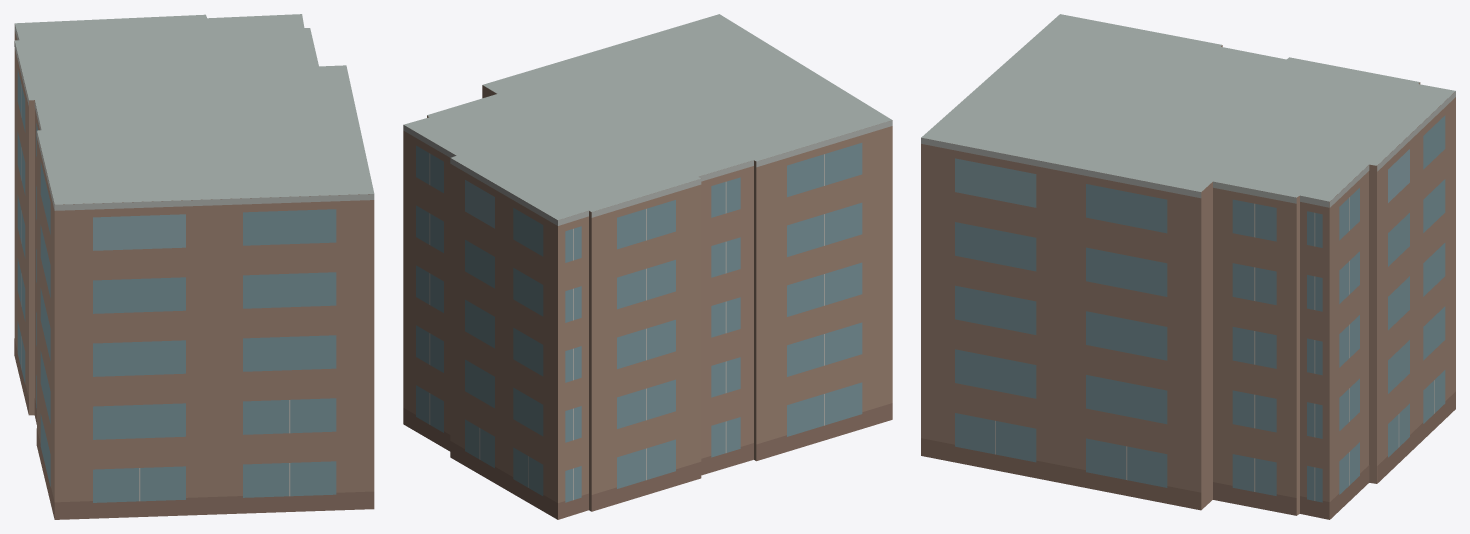
File: survey-upis-32930599.glb
3 renders of one model, left to right at view 1: azimuth 30°, elevation 25°; view 2: azimuth 150°, elevation 25°; view 3: azimuth 270°, elevation 25°, orthographic. The views are drawn at different scales.
Visible parts, largest first — view 1: survey-upis-32930599.tmp; view 2: survey-upis-32930599.tmp; view 3: survey-upis-32930599.tmp.
Part boxes in pixels (x1,y1,x2,y2): survey-upis-32930599.tmp: (14, 14, 374, 519); survey-upis-32930599.tmp: (403, 14, 892, 519); survey-upis-32930599.tmp: (921, 14, 1455, 519).
Bounding box in the file's own units: 15.95 × 12.6 × 19.2.
